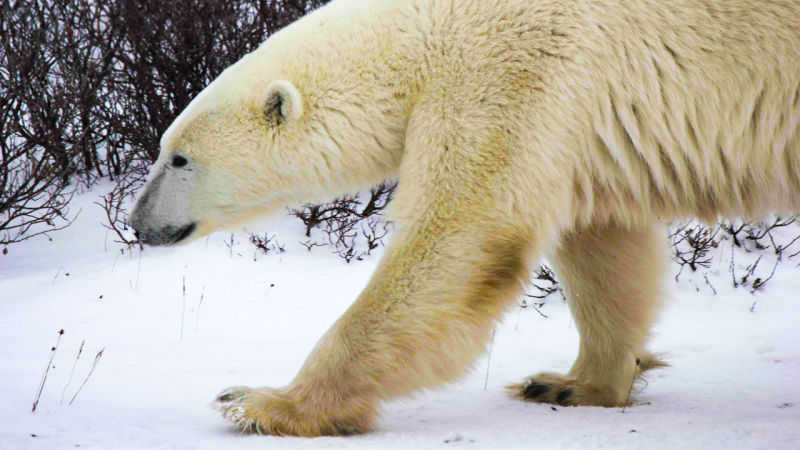Polar Bear: (94, 15, 702, 376)
